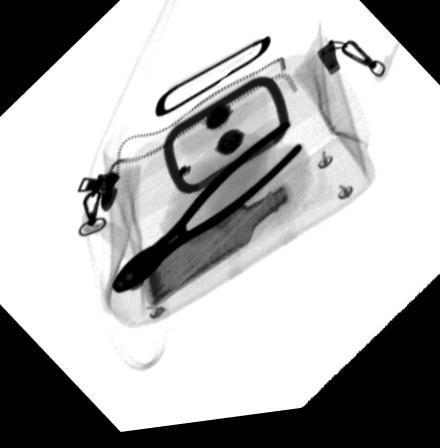Pliers: (111, 125, 304, 297)
